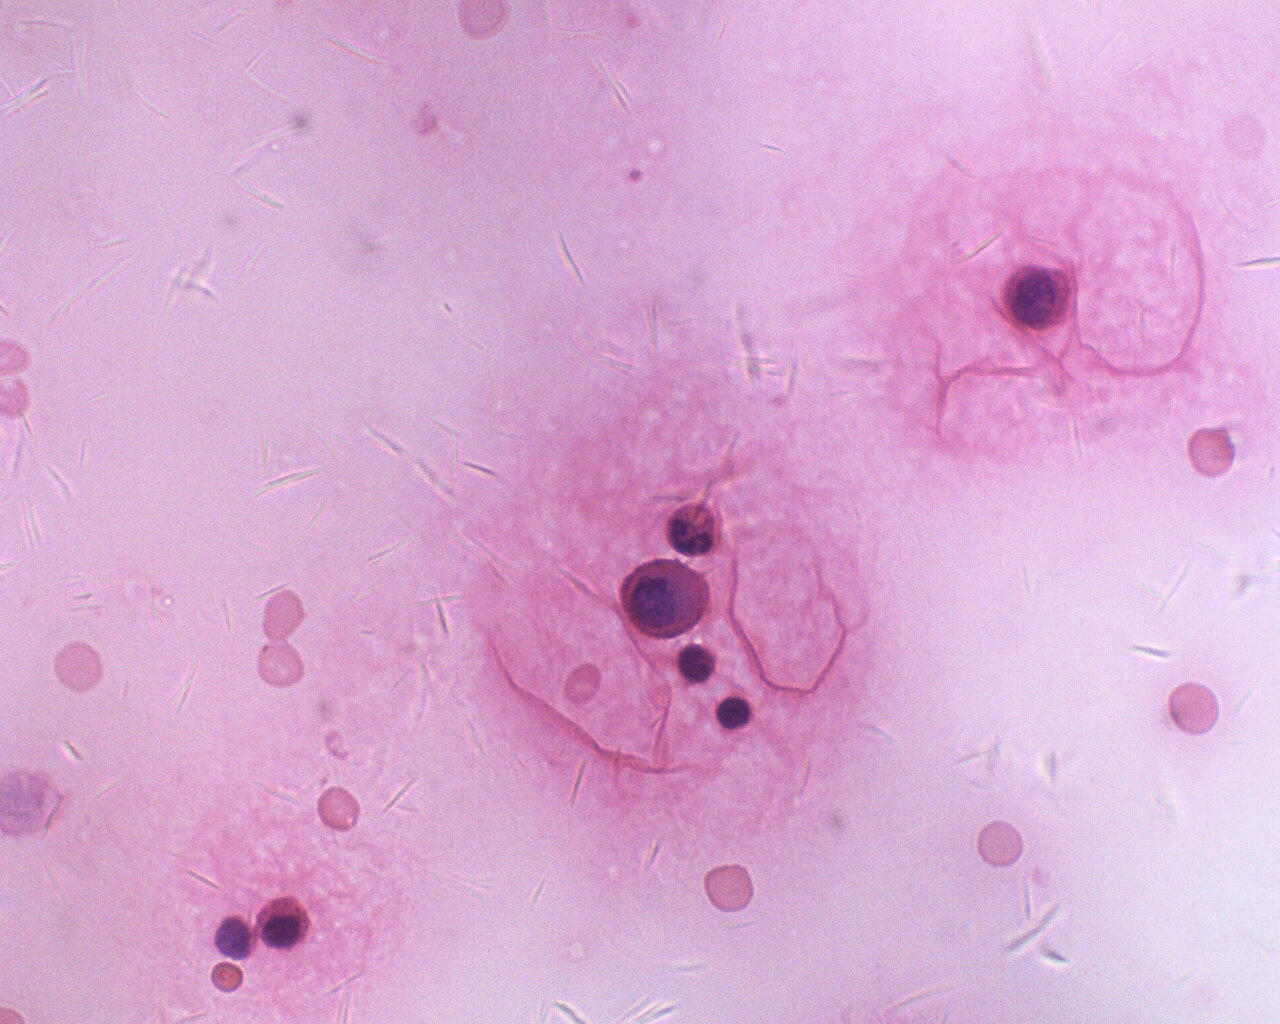ab: (997, 256, 1073, 336)
lymph: (709, 692, 759, 734)
meso: (616, 549, 709, 644), (255, 885, 317, 957)
